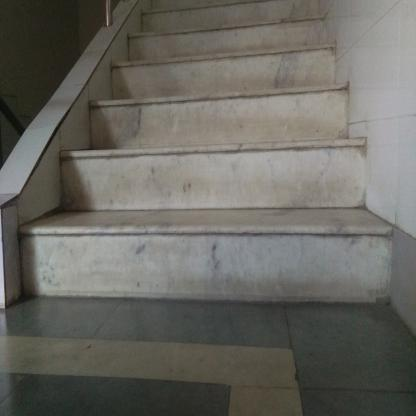stairs: (115, 57, 334, 309)
